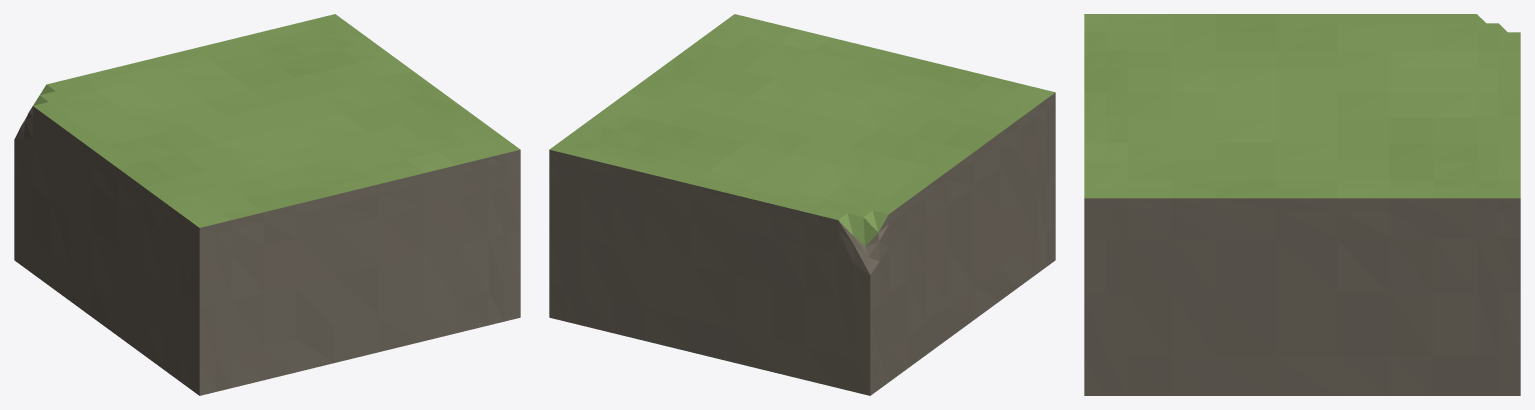
The model's file is grass_bay.glb.
3 renders of one model, left to right at view 1: azimuth 30°, elevation 25°; view 2: azimuth 150°, elevation 25°; view 3: azimuth 270°, elevation 25°, orthographic. The views are drawn at different scales.
Parts seen in each view (by area): view 1: grass_bay; view 2: grass_bay; view 3: grass_bay.
Boxes of the visible parts, x1,y1,x2,y2 form: grass_bay: (14,14,520,395); grass_bay: (549,14,1055,395); grass_bay: (1084,14,1520,395).
Size of the model in its own units: 1 by 0.5 by 1.
